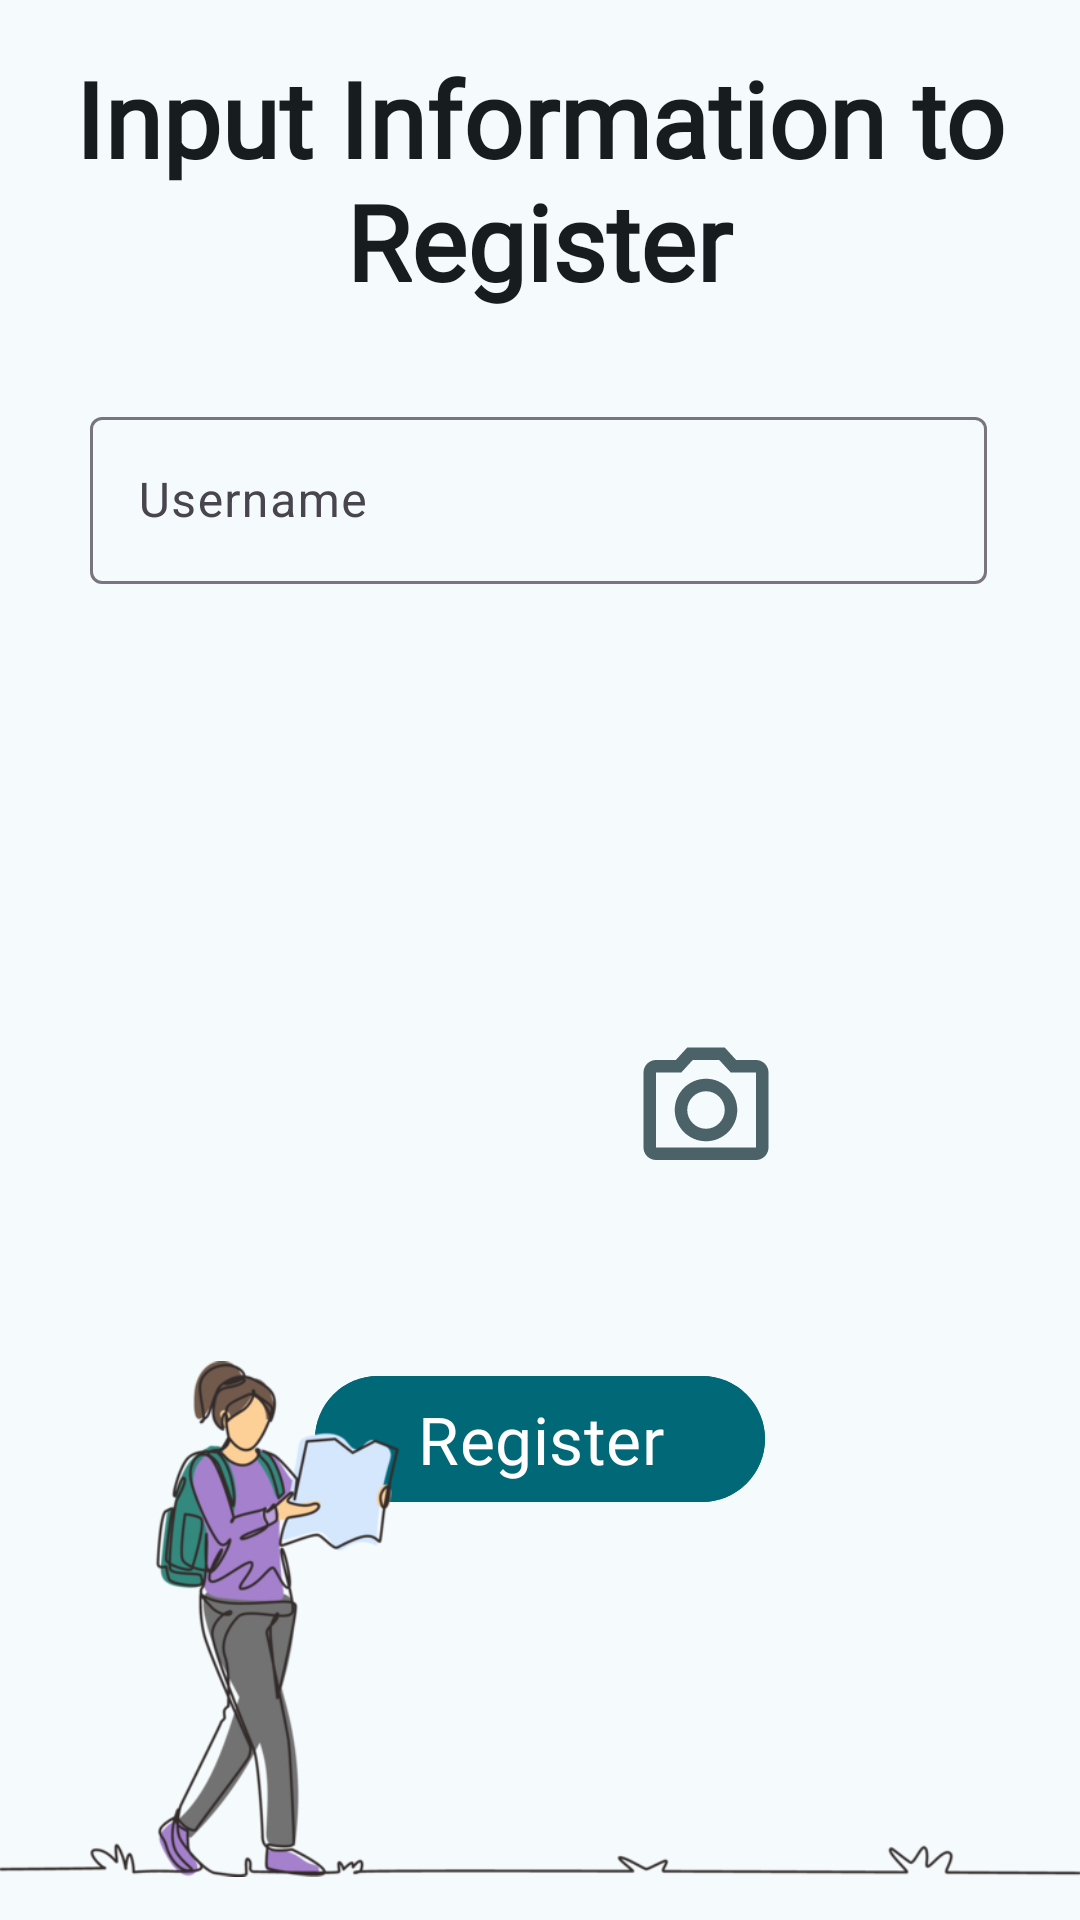

Named icons in this screenshot (1080×1920) and their centers, point (x, y):
camera: point (706, 1103)
